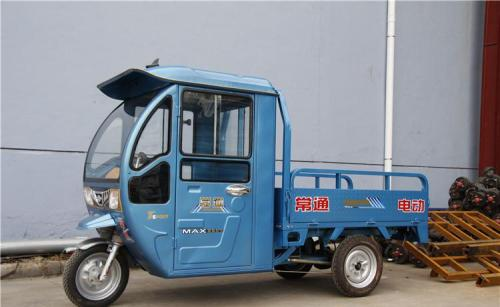tricycle: (60, 50, 435, 307)
